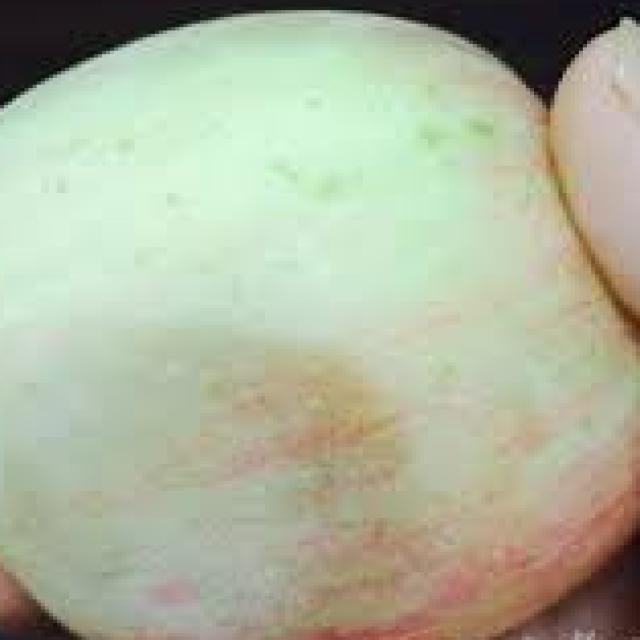inorganic: (7, 5, 633, 635)
